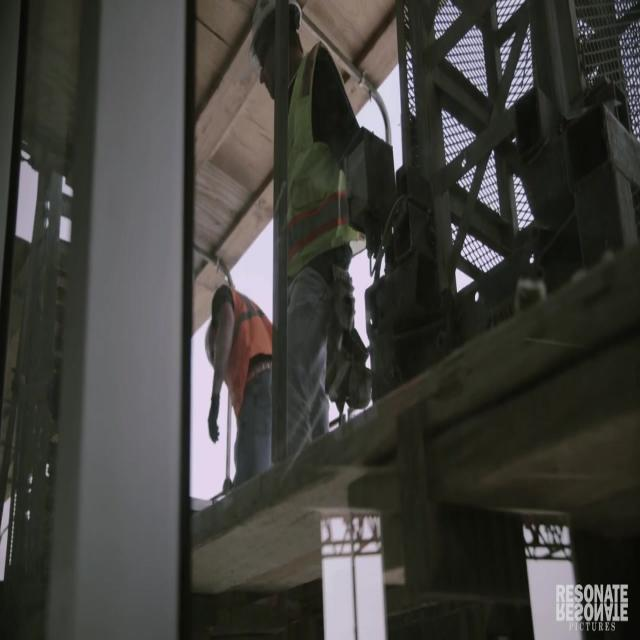Reflective-Jacket: (276, 38, 364, 291), (203, 285, 274, 413)
